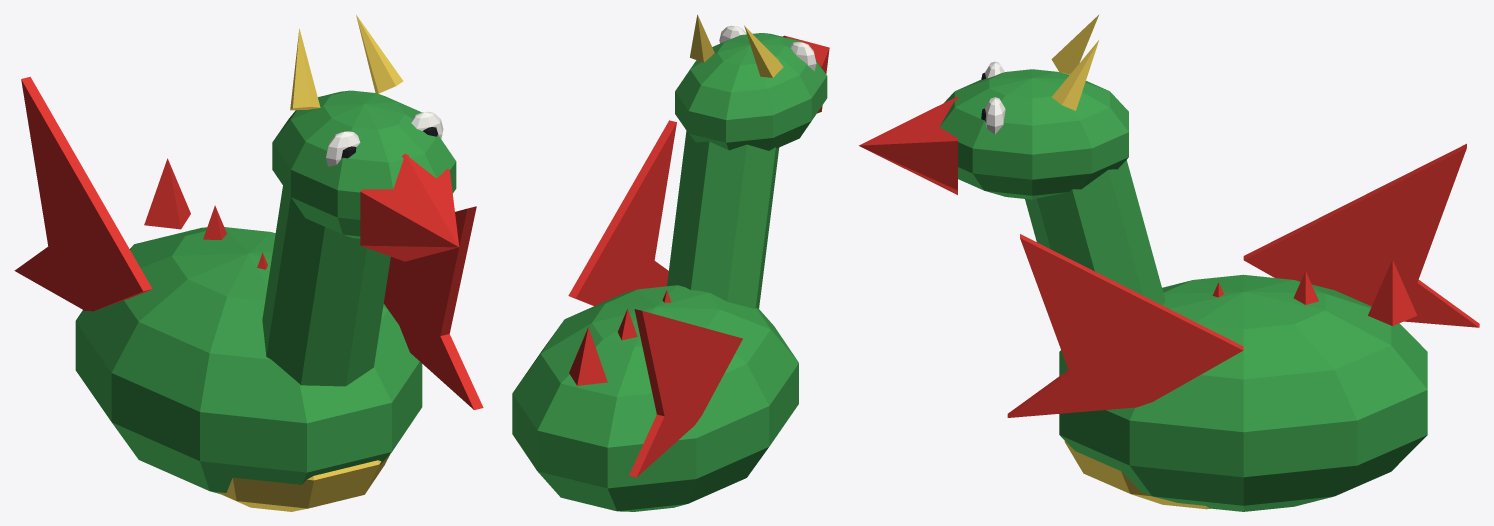
The model's file is float_dragon.glb.
The picture shows the model from 3 angles, left to right: view 1: azimuth 30°, elevation 25°; view 2: azimuth 150°, elevation 25°; view 3: azimuth 270°, elevation 25°; orthographic projection. The views are drawn at different scales.
Parts seen in each view (by area): view 1: body_dragon_green, wings_dragon_red, head_dragon_green, head_dragon_red, body_dragon_belly, head_dragon_belly, body_dragon_red, face_white; view 2: body_dragon_green, wings_dragon_red, head_dragon_green, body_dragon_red, head_dragon_belly, face_white, head_dragon_red; view 3: body_dragon_green, wings_dragon_red, head_dragon_green, head_dragon_red, body_dragon_red, head_dragon_belly, body_dragon_belly, face_white.
Boxes of the visible parts, bbox=[...] form: body_dragon_green: bbox=[75, 186, 422, 493]; wings_dragon_red: bbox=[14, 77, 483, 409]; head_dragon_green: bbox=[272, 90, 456, 238]; head_dragon_red: bbox=[360, 153, 459, 261]; body_dragon_belly: bbox=[218, 454, 390, 511]; head_dragon_belly: bbox=[290, 14, 403, 110]; body_dragon_red: bbox=[144, 158, 267, 269]; face_white: bbox=[326, 111, 443, 166]; body_dragon_green: bbox=[512, 130, 798, 511]; wings_dragon_red: bbox=[568, 120, 742, 477]; head_dragon_green: bbox=[675, 33, 827, 150]; body_dragon_red: bbox=[569, 290, 671, 385]; head_dragon_belly: bbox=[690, 14, 783, 77]; face_white: bbox=[719, 25, 816, 70]; head_dragon_red: bbox=[782, 35, 829, 113]; body_dragon_green: bbox=[1025, 160, 1427, 511]; wings_dragon_red: bbox=[1007, 143, 1479, 417]; head_dragon_green: bbox=[940, 69, 1128, 199]; head_dragon_red: bbox=[859, 96, 957, 194]; body_dragon_red: bbox=[1212, 260, 1417, 325]; head_dragon_belly: bbox=[1051, 14, 1099, 110]; body_dragon_belly: bbox=[1064, 441, 1210, 509]; face_white: bbox=[985, 61, 1005, 134].
Size of the model in its own units: 1.17 by 2.08 by 2.5.
